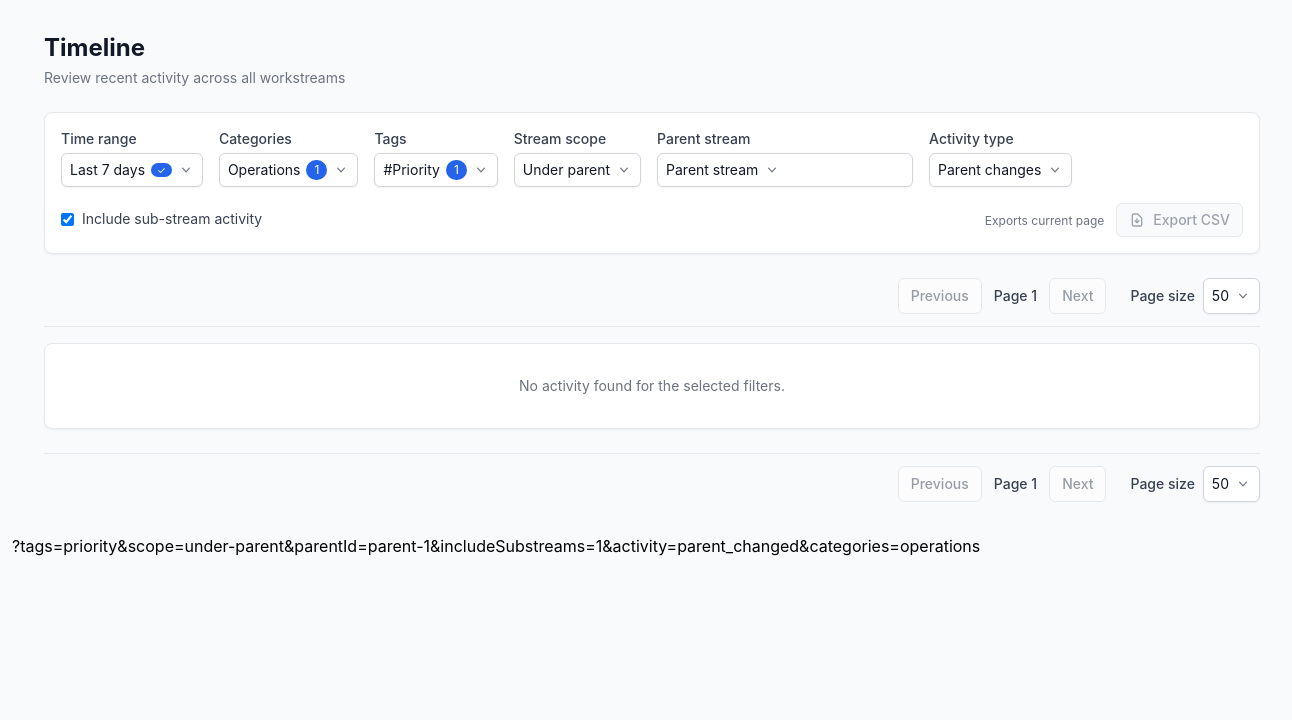
Test: Timeline URL state › initializes filters from URL params and writes changed controls back to the URL
What coordinates should you click on to do the following:
click the checkbox labelled "Include sub-stream activity"
I would click on:
 (68, 219)
Its box is [61, 212, 74, 226].
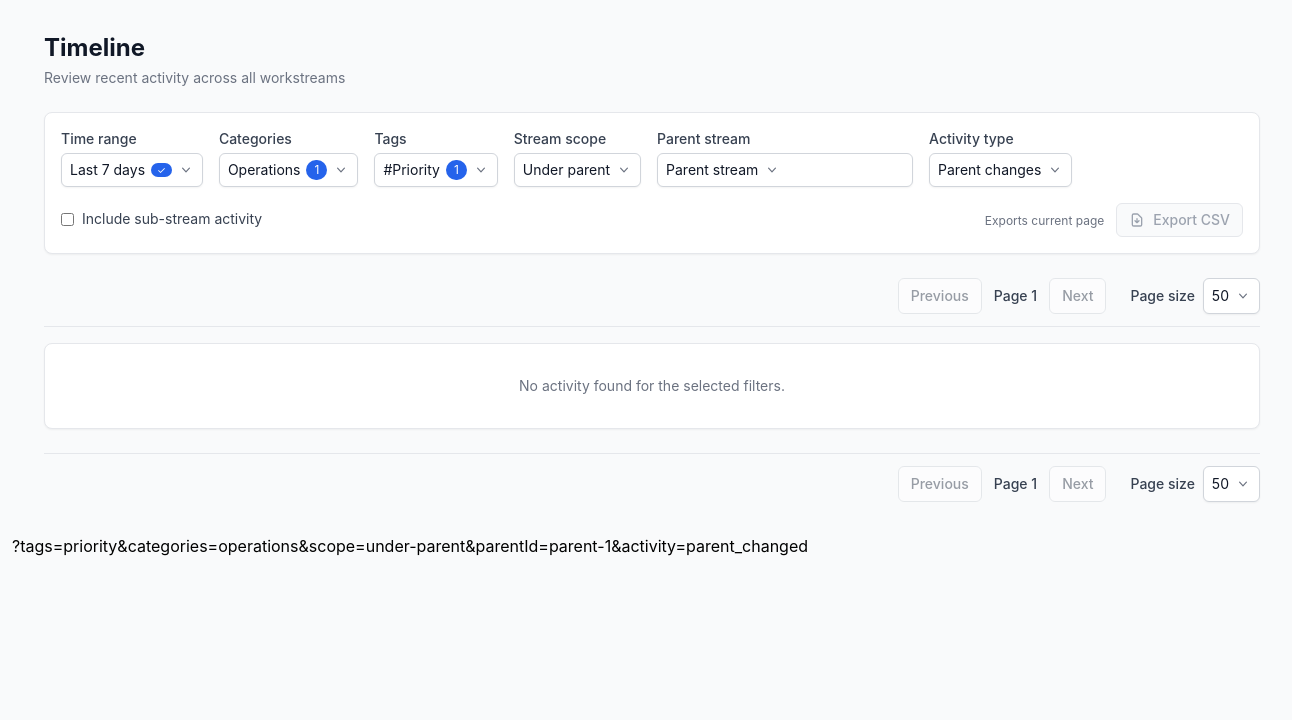
Expected: the text with test id "location" shows "tags=priority", [12, 536, 808, 556]
Result: the text with test id "location" no longer shows "includeSubstreams=1" at [12, 536, 808, 556]
